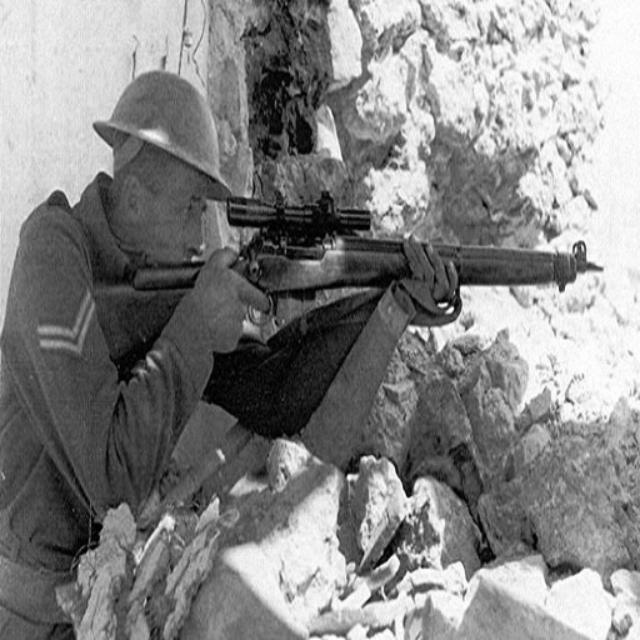other: (0, 59, 464, 635)
